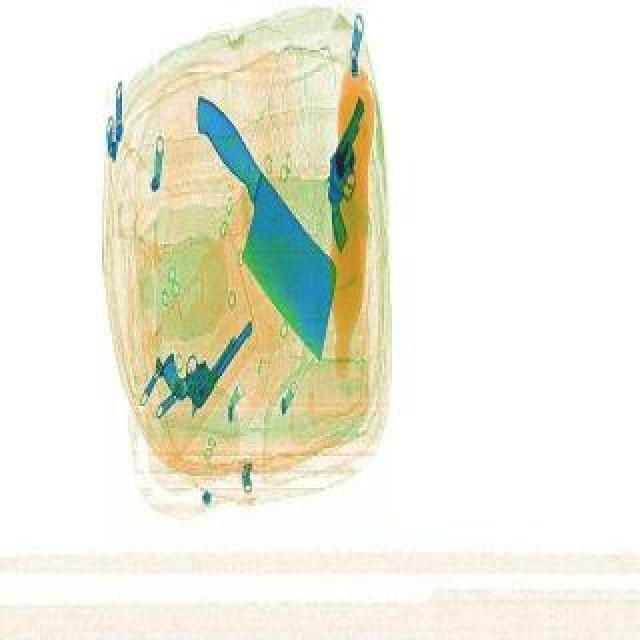gun: (296, 96, 400, 254), (144, 296, 256, 418)
knife: (148, 90, 378, 358)
